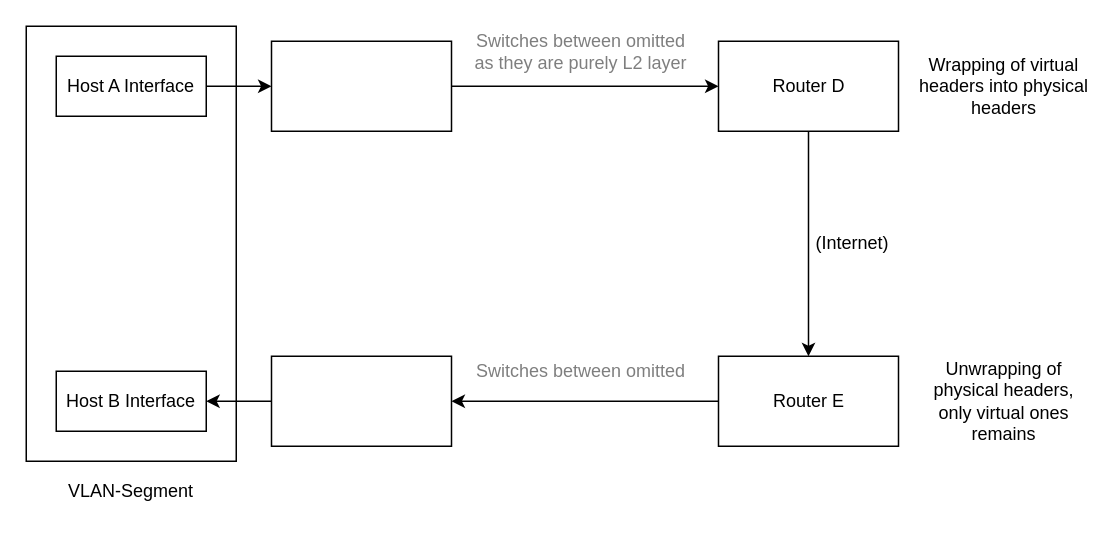
This 1119x533 diagram has some shape labels left out. The shapes that lost their labels are listed below. From the top down, each one's centre as x and y in pixels, then its label:
At point 361,85: "Machine A Network Interface".
At point 361,400: "Machine B Network Interface".
